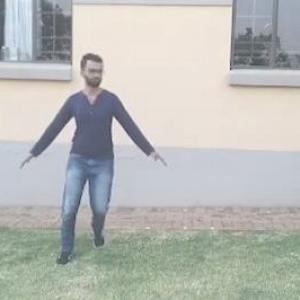land: (18, 54, 156, 236)
